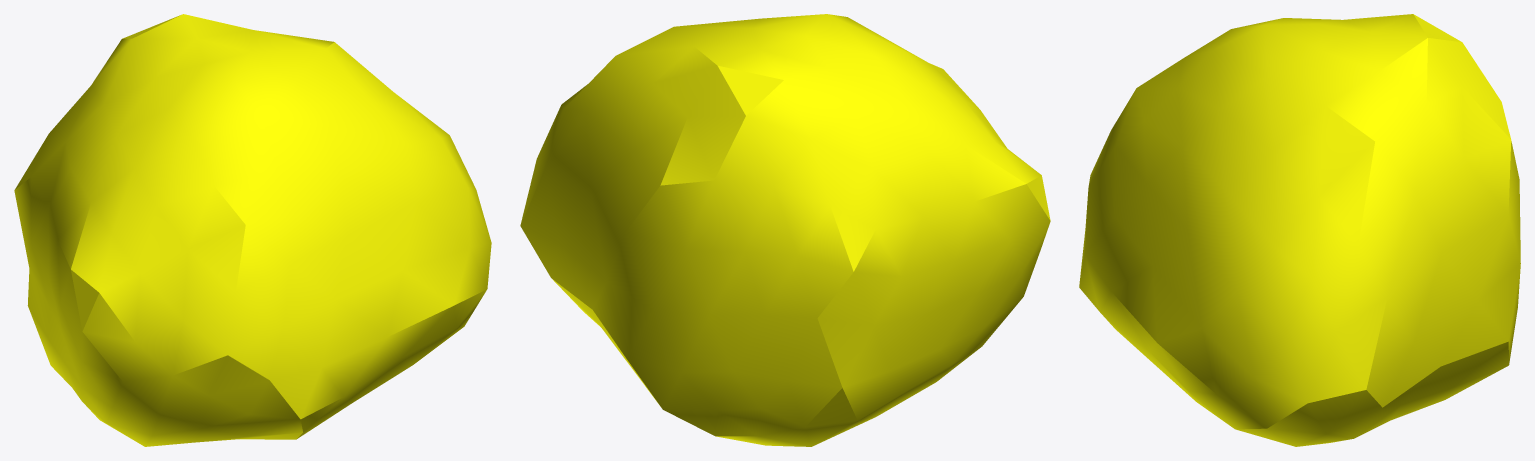
The model's file is kaykit-rock-3-r-color-1.glb.
3 renders of one model, left to right at view 1: azimuth 30°, elevation 25°; view 2: azimuth 150°, elevation 25°; view 3: azimuth 270°, elevation 25°, orthographic. The views are drawn at different scales.
Visible parts, largest first — view 1: Rock_3_R_Color1; view 2: Rock_3_R_Color1; view 3: Rock_3_R_Color1.
Part boxes in pixels (x1,y1,x2,y2): Rock_3_R_Color1: (14,14,491,446); Rock_3_R_Color1: (520,14,1050,446); Rock_3_R_Color1: (1079,14,1520,446).
Size of the model in its own units: 5.16 by 3.85 by 4.21.
